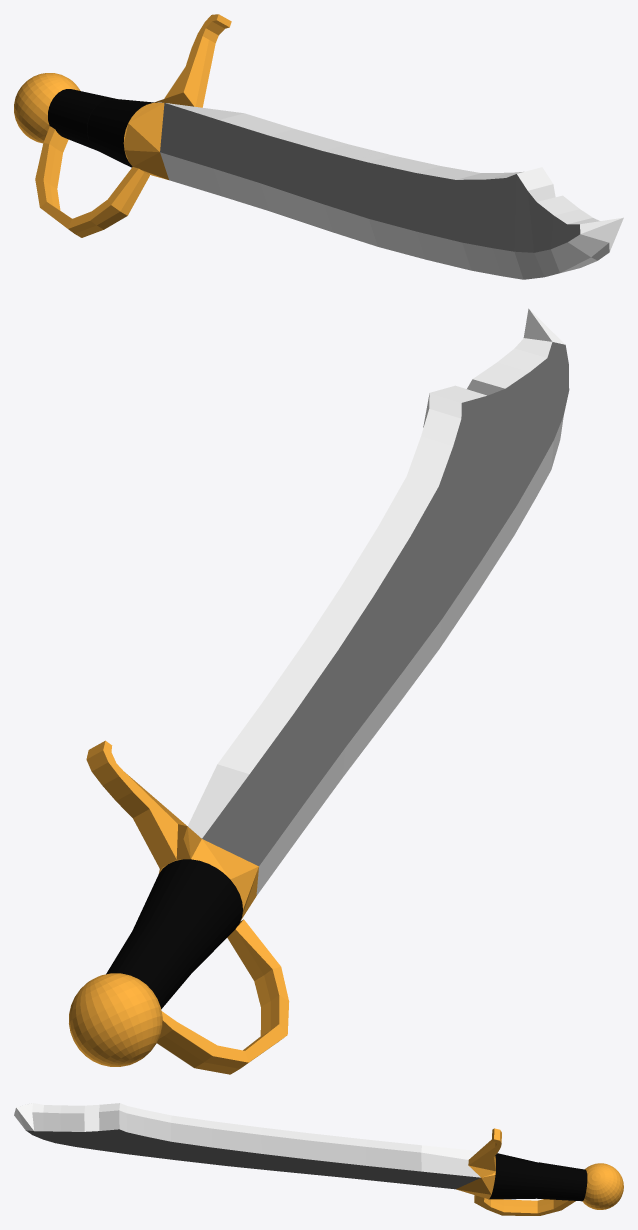
The model's file is ScruffySword.fbx.
3 renders of one model, top to bottom at view 1: azimuth 30°, elevation 25°; view 2: azimuth 150°, elevation 25°; view 3: azimuth 270°, elevation 25°, orthographic. The views are drawn at different scales.
Visible parts, largest first — view 1: Sword; view 2: Sword; view 3: Sword.
Part boxes in pixels (x1=…): Sword: x1=14, y1=14, x2=623, y2=279; Sword: x1=69, y1=308, x2=569, y2=1074; Sword: x1=14, y1=1103, x2=623, y2=1215.
Size of the model in its own units: 47.81 by 60.55 by 204.
